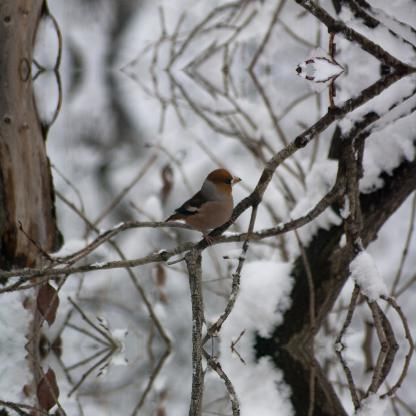Bird: (160, 168, 242, 242)
